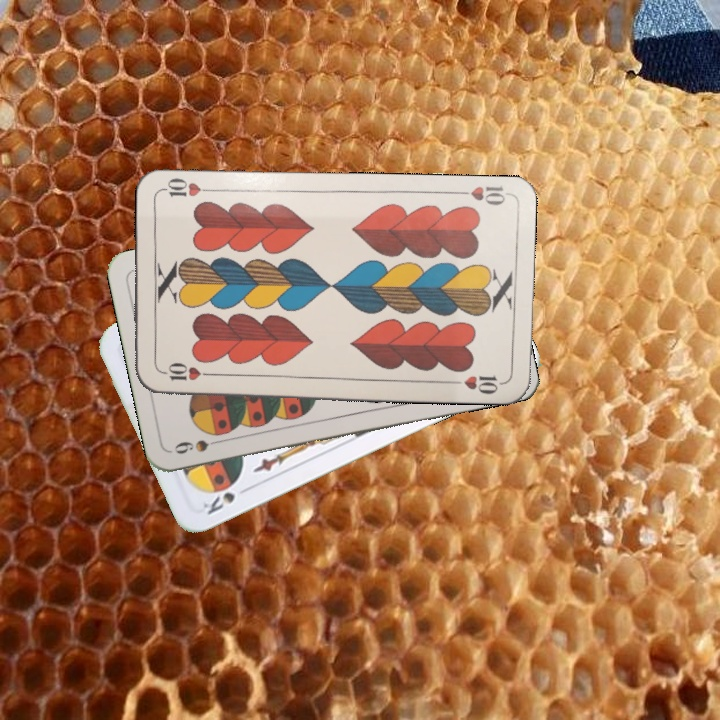H10: (451, 182, 510, 208), (157, 362, 216, 383)
S9: (170, 434, 228, 457)
SK: (198, 482, 253, 518)
